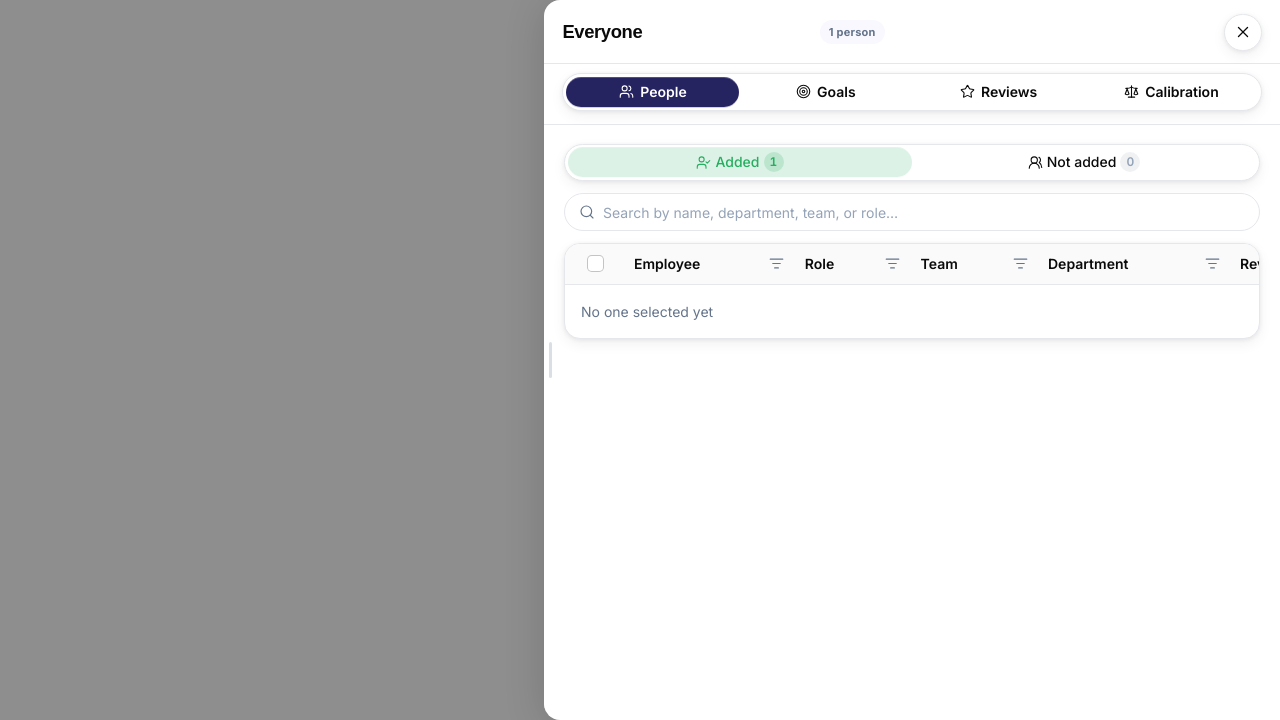
Test: GroupSettingsView › shows the group grade mix on the calibration section
The image size is (1280, 720).
Click the button "Calibration" at (1171, 92), box [1085,77,1258,107]
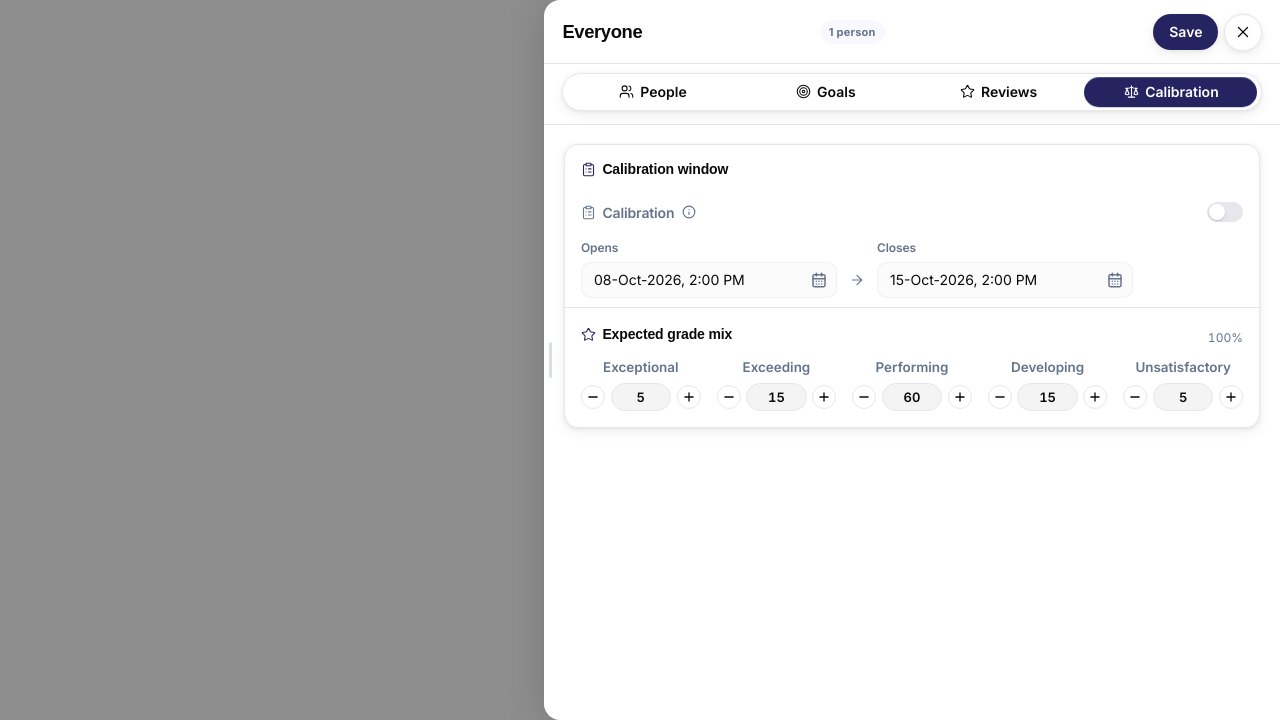
Now the heading "Expected grade mix" is shown, box [581,324,732,345]
Now the field labelled "Performing" holds "60", box [882,383,942,411]
Now the heading "Calibration window" is shown, box [581,159,728,180]
